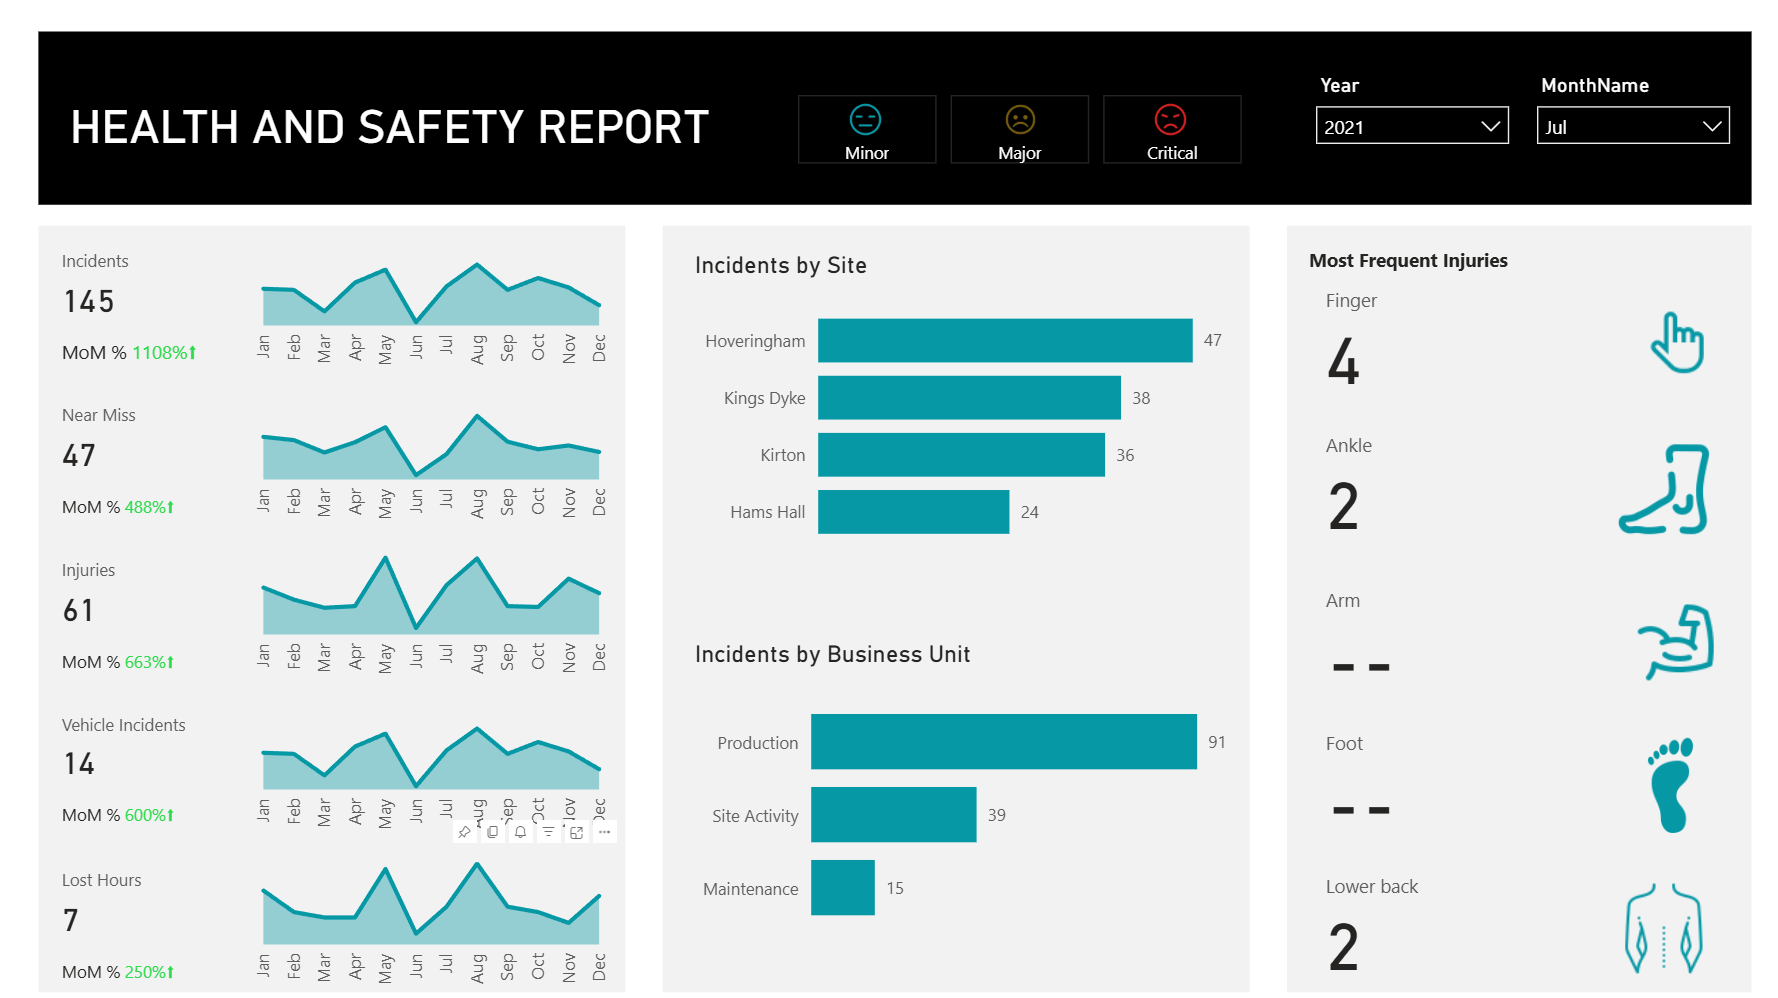

The page's visual inventory and layout, read from the dashboard file:
{"tool":"powerbi","page":{"name":"Minor","canvas":[1280,720],"ordinal":0},"visuals":[{"type":"slicer","fields":{"Values":["Calendar.MonthName"]},"box":[1088.4,47.7,158,70],"z":0},{"type":"image","box":[581.9,68.3,75.2,35.1],"z":0,"group":"g6"},{"type":"slicer","fields":{"Values":["Calendar.Year"]},"box":[930.8,47.7,157.6,70],"z":1000},{"type":"image","box":[692.3,68.3,75.2,35.1],"z":1000,"group":"g6"},{"type":"image","box":[799.6,68.3,75.2,35.1],"z":2000,"group":"g6"},{"type":"group","id":"g1","title":"Group 2","box":[28.2,160.5,414.3,115.7],"z":2000},{"type":"cardVisual","fields":{"Data":["Sum(Data.Incidents)"]},"box":[28.2,160.5,132.3,115],"z":2000,"group":"g1"},{"type":"cardVisual","fields":{"Data":["Sum(Data.Near Miss)"]},"box":[28.2,270.6,132.3,115],"z":2000,"group":"g2"},{"type":"cardVisual","fields":{"Data":["Sum(Data.Injuries)"]},"box":[28.2,381.4,132.3,115],"z":2000,"group":"g3"},{"type":"cardVisual","fields":{"Data":["Sum(Data.Vehicle Incidents)"]},"box":[28.2,492.2,132.3,115],"z":2000,"group":"g4"},{"type":"cardVisual","fields":{"Data":["Sum(Data.Lost Hours)"]},"box":[28.2,603,132.3,115],"z":2000,"group":"g5"},{"type":"pageNavigator","box":[570,61.1,318.5,49.3],"z":3000,"group":"g6"},{"type":"areaChart","fields":{"Y":["Sum(Data.Incidents)"],"Category":["Calendar.MonthName"]},"box":[167.3,160.5,275.3,115.7],"z":3000,"group":"g1"},{"type":"group","id":"g2","title":"Group 2","box":[28.2,270.6,414.3,115.7],"z":3000},{"type":"areaChart","fields":{"Y":["Sum(Data.Near Miss)"],"Category":["Calendar.MonthName"]},"box":[167.3,270.6,275.3,115.7],"z":3000,"group":"g2"},{"type":"areaChart","fields":{"Y":["Sum(Data.Injuries)"],"Category":["Calendar.MonthName"]},"box":[167.3,381.4,275.3,115.7],"z":3000,"group":"g3"},{"type":"areaChart","fields":{"Y":["Sum(Data.Incidents)"],"Category":["Calendar.MonthName"]},"box":[167.3,492.2,275.3,115.7],"z":3000,"group":"g4"},{"type":"areaChart","fields":{"Y":["Sum(Data.Lost Hours)"],"Category":["Calendar.MonthName"]},"box":[167.3,603,275.3,115.7],"z":3000,"group":"g5"},{"type":"group","id":"g3","title":"Group 2","box":[28.2,381.4,414.3,115.7],"z":4000},{"type":"group","id":"g4","title":"Group 2","box":[28.2,492.2,414.3,115.7],"z":5000},{"type":"group","id":"g5","title":"Group 2","box":[28.2,603,414.3,115.7],"z":6000},{"type":"barChart","fields":{"Category":["Data. Site"],"Y":["Sum(Data.Incidents)"]},"box":[492.2,179,390,224.7],"z":7000},{"type":"barChart","fields":{"Y":["Sum(Data.Incidents)"],"Category":["Data.Business Unit"]},"box":[492.2,457.1,390,224.7],"z":8000},{"type":"textbox","box":[930.8,171.2,157.6,34],"z":9000},{"type":"cardVisual","fields":{"Data":["Sum(Data.Injuries)"]},"box":[930.8,188.7,315.1,99],"z":10000},{"type":"cardVisual","fields":{"Data":["Sum(Data.Injuries)"]},"box":[930.8,402.7,315,99],"z":11000},{"type":"cardVisual","fields":{"Data":["Sum(Data.Injuries)"]},"box":[930.8,504.8,315,99],"z":12000},{"type":"cardVisual","fields":{"Data":["Sum(Data.Injuries)"]},"box":[930.8,291.8,315.1,99],"z":13000},{"type":"cardVisual","fields":{"Data":["Sum(Data.Injuries)"]},"box":[930.8,606.9,315,99],"z":14000},{"type":"textbox","box":[45.7,66.1,472.7,51.6],"z":15000},{"type":"group","id":"g6","title":"Group 1","box":[570,61.1,318.5,49.3],"z":16000}]}

Visuals, with their boxes in screenshot pixels (x1, y1, x2, y2), scaled from the page's 1280x720 canvas onto the 1778x998 screenshot:
slicer - Calendar.MonthName: {"left": 1512, "top": 66, "right": 1731, "bottom": 163}
image: {"left": 808, "top": 95, "right": 913, "bottom": 143}
slicer - Calendar.Year: {"left": 1293, "top": 66, "right": 1512, "bottom": 163}
image: {"left": 962, "top": 95, "right": 1066, "bottom": 143}
image: {"left": 1111, "top": 95, "right": 1215, "bottom": 143}
"Group 2" group: {"left": 39, "top": 222, "right": 615, "bottom": 383}
cardVisual - Sum(Data.Incidents): {"left": 39, "top": 222, "right": 223, "bottom": 382}
cardVisual - Sum(Data.Near Miss): {"left": 39, "top": 375, "right": 223, "bottom": 534}
cardVisual - Sum(Data.Injuries): {"left": 39, "top": 529, "right": 223, "bottom": 688}
cardVisual - Sum(Data.Vehicle Incidents): {"left": 39, "top": 682, "right": 223, "bottom": 842}
cardVisual - Sum(Data.Lost Hours): {"left": 39, "top": 836, "right": 223, "bottom": 995}
pageNavigator: {"left": 792, "top": 85, "right": 1234, "bottom": 153}
areaChart - Sum(Data.Incidents) x Calendar.MonthName: {"left": 232, "top": 222, "right": 615, "bottom": 383}
"Group 2" group: {"left": 39, "top": 375, "right": 615, "bottom": 535}
areaChart - Sum(Data.Near Miss) x Calendar.MonthName: {"left": 232, "top": 375, "right": 615, "bottom": 535}
areaChart - Sum(Data.Injuries) x Calendar.MonthName: {"left": 232, "top": 529, "right": 615, "bottom": 689}
areaChart - Sum(Data.Incidents) x Calendar.MonthName: {"left": 232, "top": 682, "right": 615, "bottom": 843}
areaChart - Sum(Data.Lost Hours) x Calendar.MonthName: {"left": 232, "top": 836, "right": 615, "bottom": 996}
"Group 2" group: {"left": 39, "top": 529, "right": 615, "bottom": 689}
"Group 2" group: {"left": 39, "top": 682, "right": 615, "bottom": 843}
"Group 2" group: {"left": 39, "top": 836, "right": 615, "bottom": 996}
barChart - Data. Site x Sum(Data.Incidents): {"left": 684, "top": 248, "right": 1225, "bottom": 560}
barChart - Sum(Data.Incidents) x Data.Business Unit: {"left": 684, "top": 634, "right": 1225, "bottom": 945}
textbox: {"left": 1293, "top": 237, "right": 1512, "bottom": 284}
cardVisual - Sum(Data.Injuries): {"left": 1293, "top": 262, "right": 1731, "bottom": 399}
cardVisual - Sum(Data.Injuries): {"left": 1293, "top": 558, "right": 1730, "bottom": 695}
cardVisual - Sum(Data.Injuries): {"left": 1293, "top": 700, "right": 1730, "bottom": 837}
cardVisual - Sum(Data.Injuries): {"left": 1293, "top": 404, "right": 1731, "bottom": 542}
cardVisual - Sum(Data.Injuries): {"left": 1293, "top": 841, "right": 1730, "bottom": 978}
textbox: {"left": 63, "top": 92, "right": 720, "bottom": 163}
"Group 1" group: {"left": 792, "top": 85, "right": 1234, "bottom": 153}
